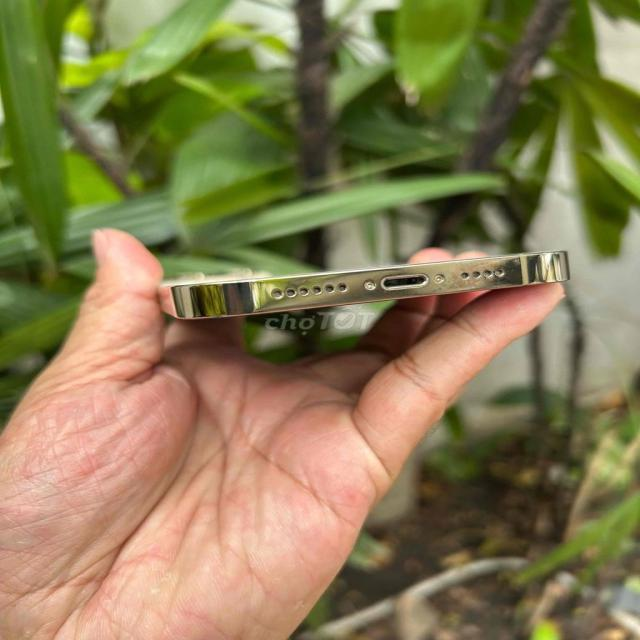scratch: (441, 252, 536, 299)
